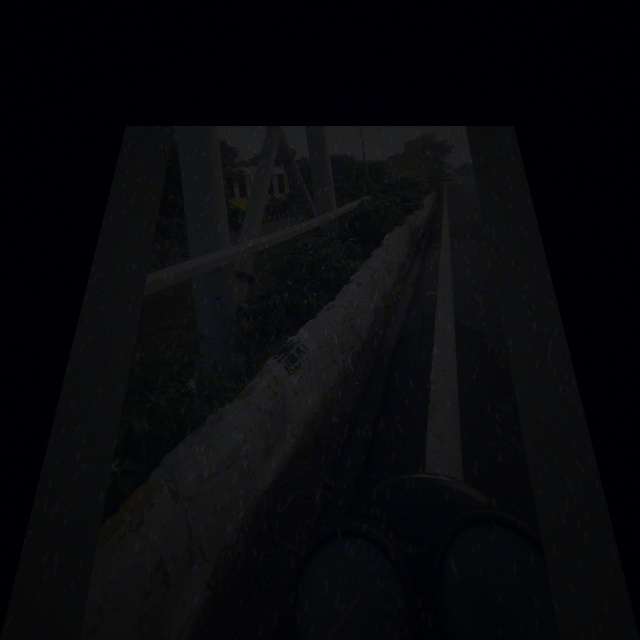U_Turn_Prohibited: (404, 140, 424, 158)
